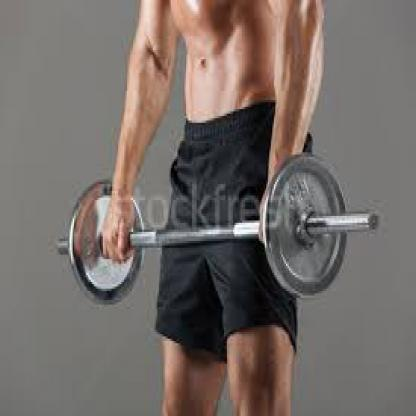barbell: (56, 151, 380, 306)
